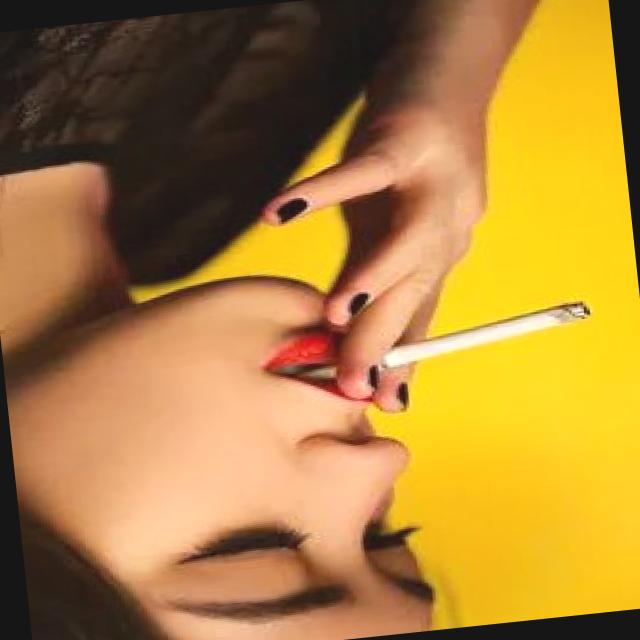cigarette: (298, 297, 606, 388)
